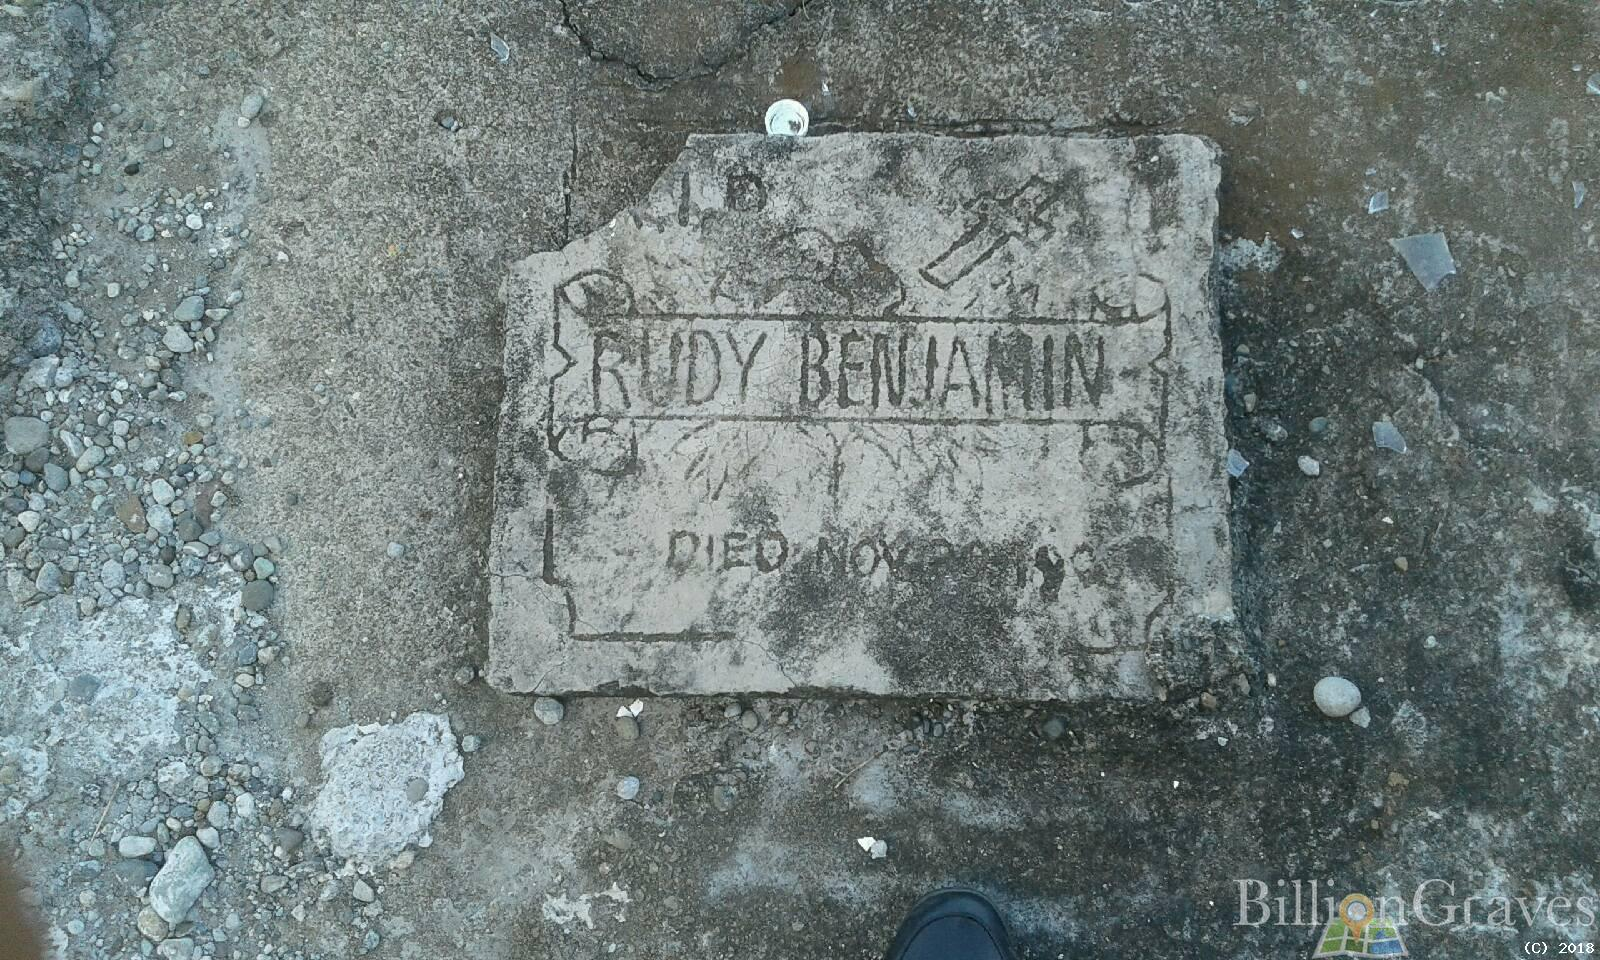flat: (489, 130, 1243, 707)
